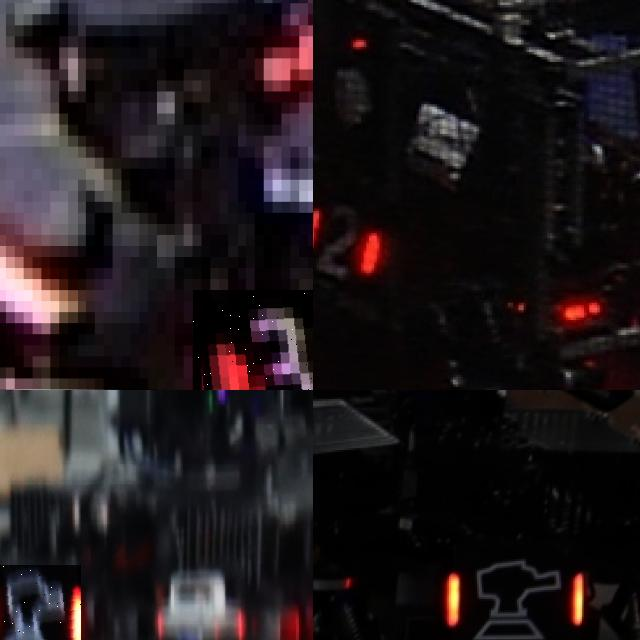R2: (313, 195, 387, 275)
R3: (192, 290, 313, 390)
Rs: (444, 555, 589, 640), (0, 564, 81, 640)
